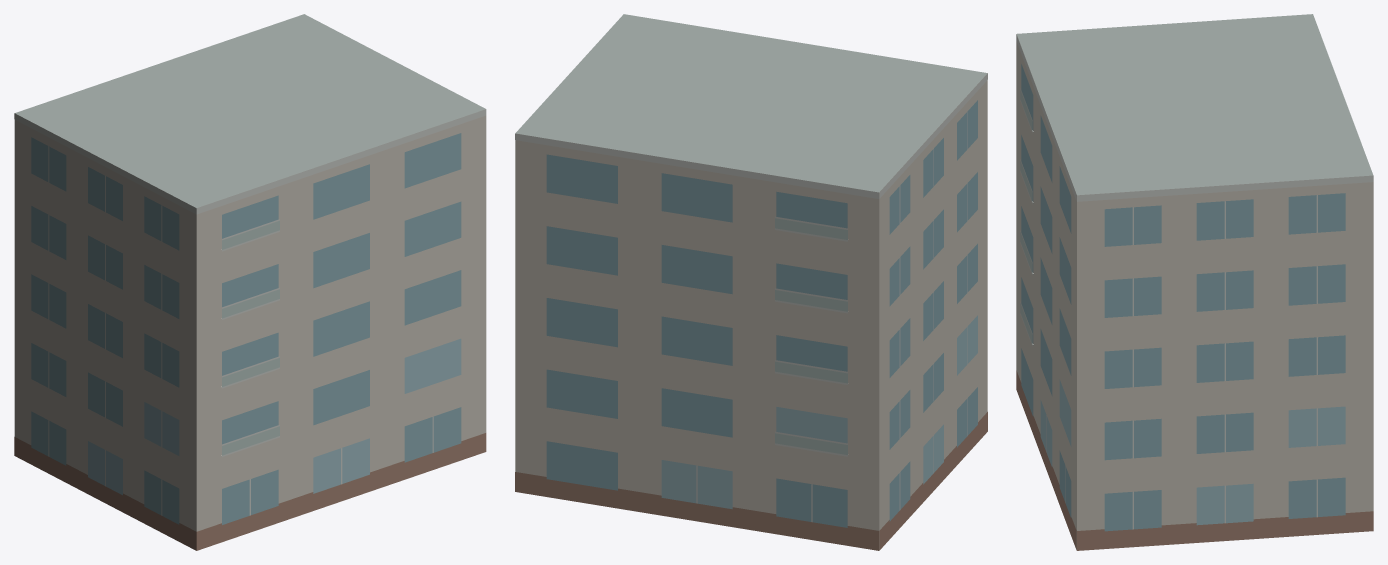
The model's file is survey-upis-32527066.glb.
3 renders of one model, left to right at view 1: azimuth 30°, elevation 25°; view 2: azimuth 150°, elevation 25°; view 3: azimuth 270°, elevation 25°, orthographic. The views are drawn at different scales.
Parts seen in each view (by area): view 1: survey-upis-32527066.tmp; view 2: survey-upis-32527066.tmp; view 3: survey-upis-32527066.tmp.
Boxes of the visible parts, bbox=[...] form: survey-upis-32527066.tmp: bbox=[14, 14, 486, 550]; survey-upis-32527066.tmp: bbox=[515, 14, 987, 550]; survey-upis-32527066.tmp: bbox=[1016, 14, 1373, 550].
Bounding box in the file's own units: 14.44 × 13.2 × 12.03.
